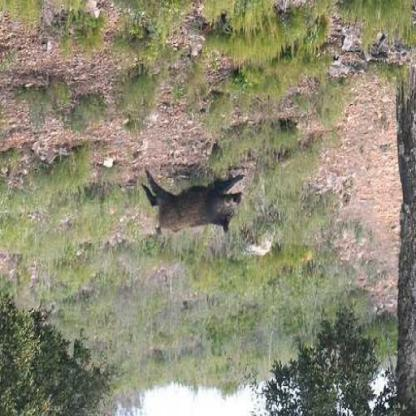boar: (139, 152, 258, 232)
